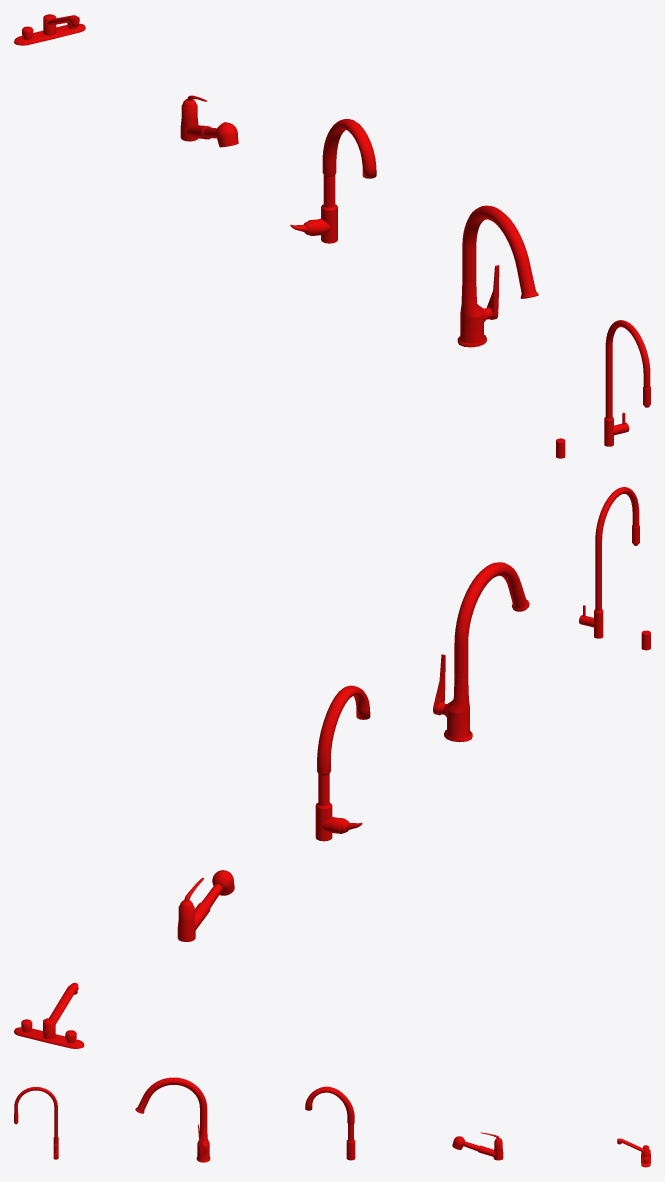
Rendered from faucets_grp.fbx.
3 views of the same model, one above another, from view 1: azimuth 30°, elevation 25°; view 2: azimuth 150°, elevation 25°; view 3: azimuth 270°, elevation 25° (orthographic). The views are drawn at different scales.
Parts seen in each view (by area): view 1: faucet_2, faucet_3, faucet_1, faucet_4, faucet_5; view 2: faucet_2, faucet_3, faucet_1, faucet_4, faucet_5; view 3: faucet_2, faucet_3, faucet_4, faucet_1, faucet_5.
Boxes of the visible parts, bbox=[...] form: faucet_2: bbox=[457, 205, 538, 347]; faucet_3: bbox=[290, 119, 376, 243]; faucet_1: bbox=[604, 320, 650, 446]; faucet_4: bbox=[180, 95, 238, 147]; faucet_5: bbox=[14, 14, 85, 45]; faucet_2: bbox=[433, 562, 529, 742]; faucet_3: bbox=[315, 685, 370, 841]; faucet_1: bbox=[579, 487, 639, 638]; faucet_4: bbox=[177, 870, 234, 941]; faucet_5: bbox=[14, 982, 84, 1048]; faucet_2: bbox=[135, 1077, 210, 1162]; faucet_3: bbox=[305, 1086, 355, 1160]; faucet_4: bbox=[452, 1132, 503, 1160]; faucet_1: bbox=[14, 1087, 58, 1159]; faucet_5: bbox=[617, 1138, 650, 1167].
Size of the model in its own units: 36.16 by 60.36 by 432.
